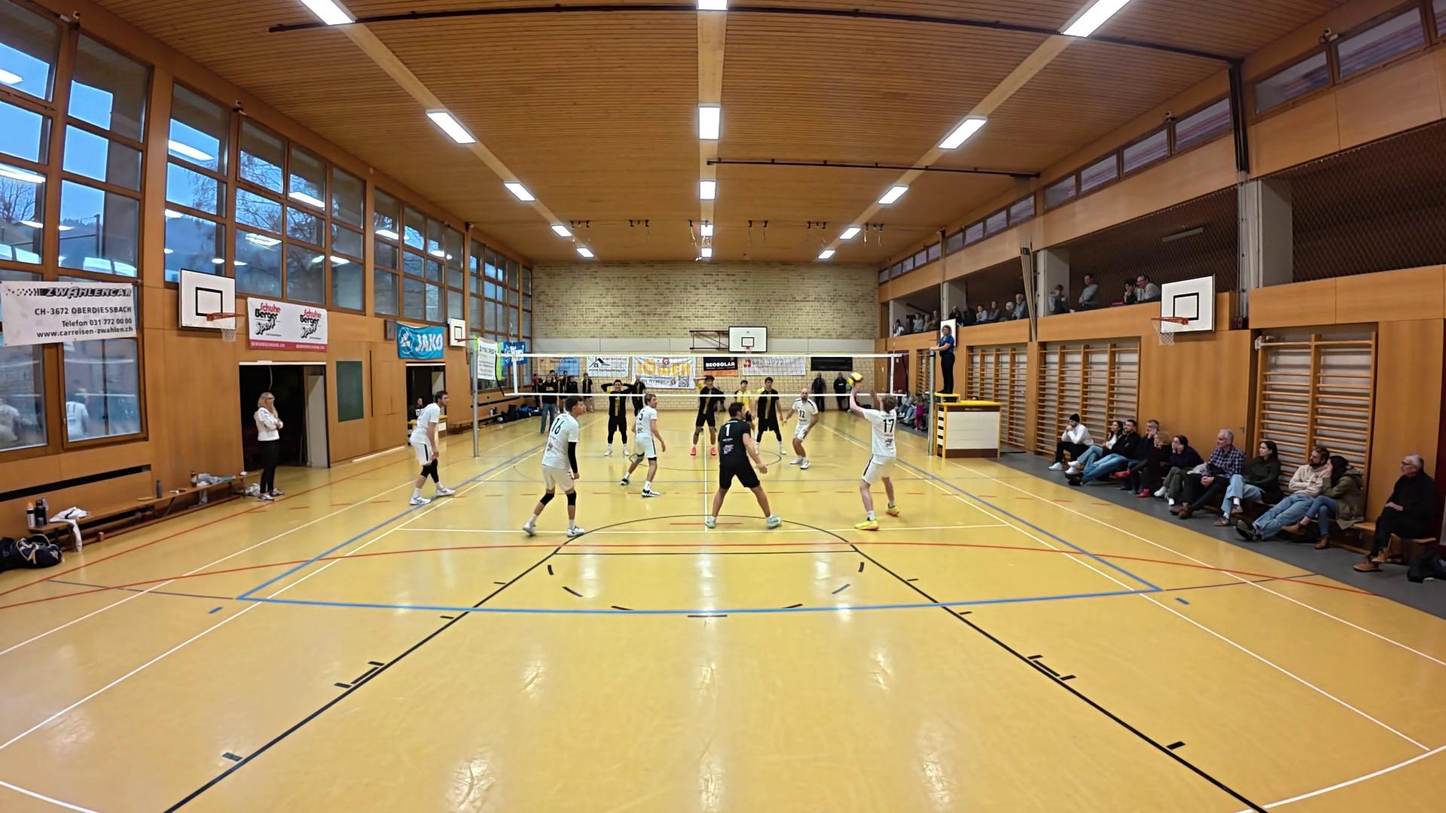ricezione: (843, 379, 904, 532)
